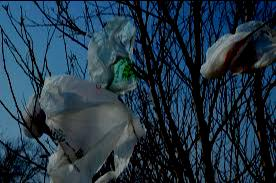Plastic: (11, 73, 156, 182), (76, 9, 140, 93), (199, 18, 275, 80)
